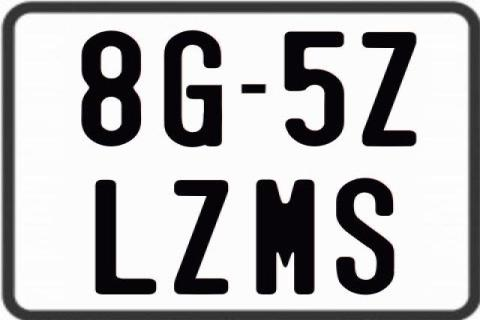0: (80, 28, 140, 146), (282, 30, 343, 146)
G: (162, 29, 220, 147)
L: (96, 179, 158, 293)
M: (254, 178, 318, 298)
S: (336, 178, 398, 298)
Z: (362, 31, 422, 149), (172, 180, 232, 296)
